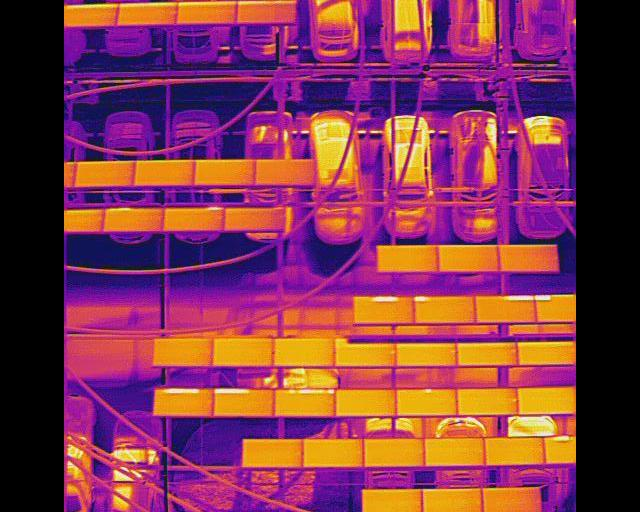Cell: (397, 387, 456, 415)
No-Anomaly: (209, 336, 275, 364), (424, 436, 484, 465), (241, 438, 303, 466), (435, 244, 499, 271), (498, 243, 559, 271), (303, 437, 364, 465), (189, 158, 257, 183), (335, 388, 395, 416), (271, 338, 335, 364), (378, 243, 437, 271), (364, 438, 425, 465), (73, 159, 133, 186), (152, 337, 212, 364), (457, 387, 518, 413), (481, 486, 541, 512), (484, 436, 544, 462), (334, 341, 396, 366), (253, 159, 317, 183), (397, 341, 458, 366), (423, 487, 483, 512), (517, 340, 576, 365), (234, 0, 298, 23), (114, 1, 177, 24), (132, 159, 194, 182), (226, 206, 285, 230), (457, 342, 518, 365), (362, 489, 423, 512), (102, 207, 165, 229), (174, 1, 238, 22), (163, 207, 224, 229), (64, 2, 121, 24)
Unclassified: (413, 295, 475, 324), (475, 295, 535, 323), (154, 386, 214, 414), (211, 388, 273, 415), (354, 295, 413, 323), (275, 388, 335, 414)
